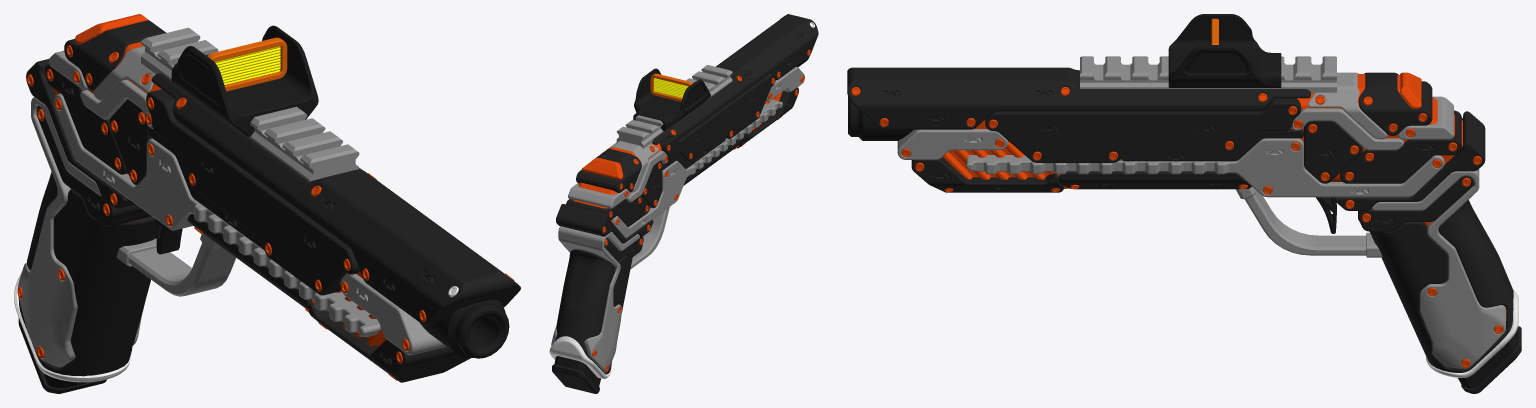
Rendered from Pistol.fbx.
3 renders of one model, left to right at view 1: azimuth 30°, elevation 25°; view 2: azimuth 150°, elevation 25°; view 3: azimuth 270°, elevation 25°, orthographic. The views are drawn at different scales.
Visible parts, largest first — view 1: Body1, Body37, Body25, Body10, Body21, Body212, Body213, Body123, Body163, Body169, Body16, Body12 (+17 smaller); view 2: Body1, Body37, Body25, Body21, Body10, Body213, Body212, Body30, Body16, Body12, Body152, Body29 (+15 smaller); view 3: Body1, Body25, Body37, Body10, Body21, Body213, Body212, Body12, Body123, Body3, Body16, Body163 (+15 smaller).
Boxes of the visible parts, left/top/right/bottom form: Body1: left=151, top=73, right=520, bottom=326; Body37: left=18, top=172, right=156, bottom=376; Body25: left=146, top=89, right=359, bottom=295; Body10: left=54, top=93, right=380, bottom=336; Body21: left=18, top=97, right=144, bottom=367; Body212: left=141, top=27, right=359, bottom=181; Body213: left=171, top=25, right=318, bottom=136; Body123: left=116, top=234, right=235, bottom=296; Body163: left=309, top=303, right=470, bottom=382; Body169: left=340, top=273, right=446, bottom=355; Body16: left=64, top=20, right=166, bottom=90; Body12: left=45, top=64, right=127, bottom=174; Body1: left=652, top=14, right=818, bottom=144; Body37: left=555, top=249, right=632, bottom=374; Body25: left=659, top=73, right=775, bottom=161; Body21: left=551, top=226, right=639, bottom=372; Body10: left=612, top=99, right=782, bottom=238; Body213: left=633, top=68, right=710, bottom=131; Body212: left=616, top=65, right=732, bottom=148; Body30: left=556, top=204, right=653, bottom=243; Body16: left=576, top=148, right=641, bottom=192; Body12: left=566, top=195, right=649, bottom=226; Body152: left=549, top=336, right=611, bottom=378; Body29: left=568, top=183, right=630, bottom=208; Body1: left=847, top=67, right=1310, bottom=129; Body25: left=985, top=98, right=1301, bottom=162; Body37: left=1370, top=199, right=1513, bottom=372; Body10: left=966, top=138, right=1444, bottom=197; Body21: left=1372, top=169, right=1505, bottom=368; Body213: left=1168, top=14, right=1281, bottom=87; Body212: left=1080, top=56, right=1336, bottom=93; Body12: left=1340, top=110, right=1461, bottom=183; Body123: left=1236, top=187, right=1382, bottom=257; Body3: left=1059, top=171, right=1251, bottom=189; Body16: left=1358, top=72, right=1432, bottom=135; Body163: left=911, top=157, right=1063, bottom=192.
Bounding box in the file's own units: 2.26 × 10.93 × 18.87.
